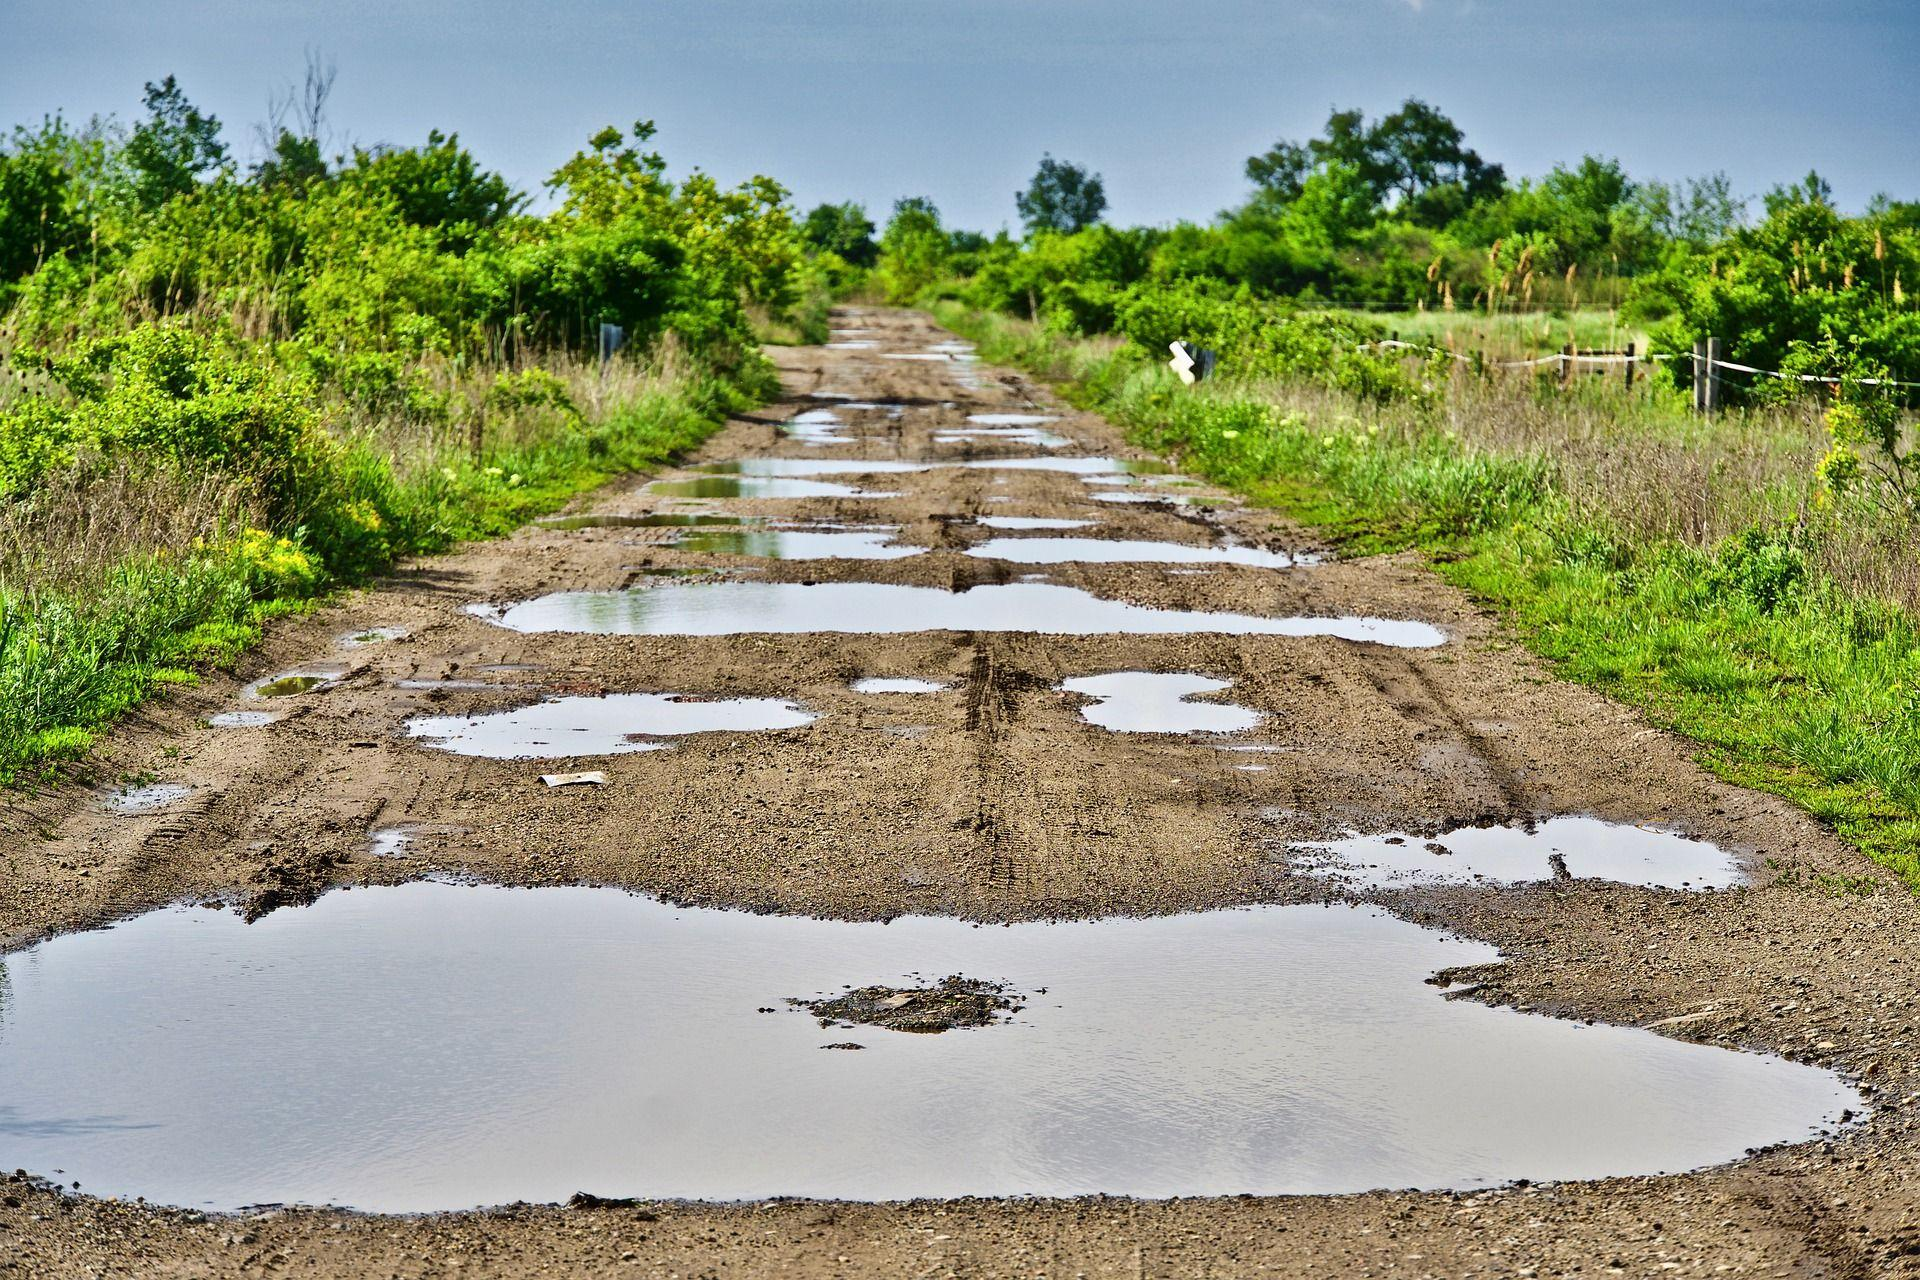Pothole: (0, 754, 1920, 1280), (214, 544, 1514, 793), (511, 421, 1347, 577), (789, 299, 1034, 460)
